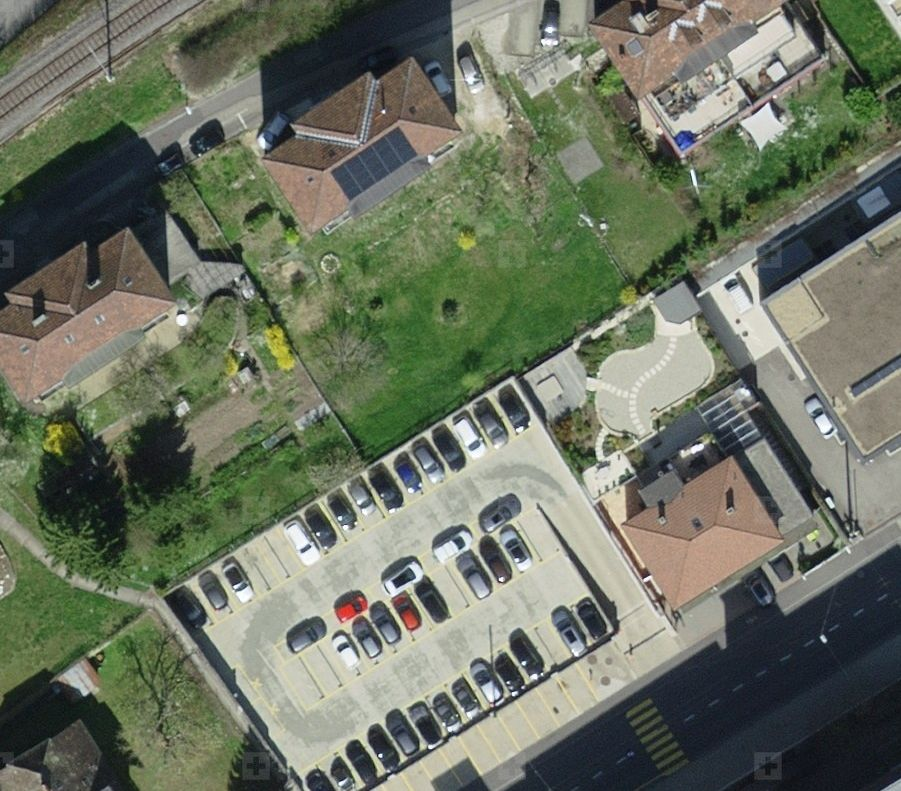solar: (331, 127, 419, 202)
